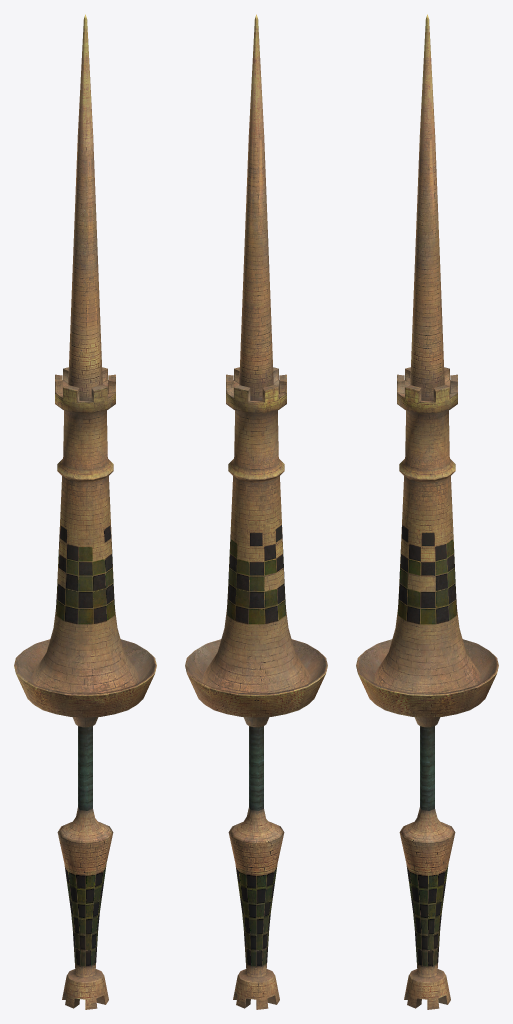
The model's file is lan007.obj.
3 renders of one model, left to right at view 1: azimuth 30°, elevation 25°; view 2: azimuth 150°, elevation 25°; view 3: azimuth 270°, elevation 25°, orthographic.
Visible parts, largest first — view 1: lan007_000_LOD_1; view 2: lan007_000_LOD_1; view 3: lan007_000_LOD_1.
Part boxes in pixels (x1=…): lan007_000_LOD_1: x1=14, y1=14, x2=156, y2=1009; lan007_000_LOD_1: x1=185, y1=14, x2=327, y2=1009; lan007_000_LOD_1: x1=356, y1=14, x2=498, y2=1009.
Bounding box in the file's own units: 59 × 449 × 59.
